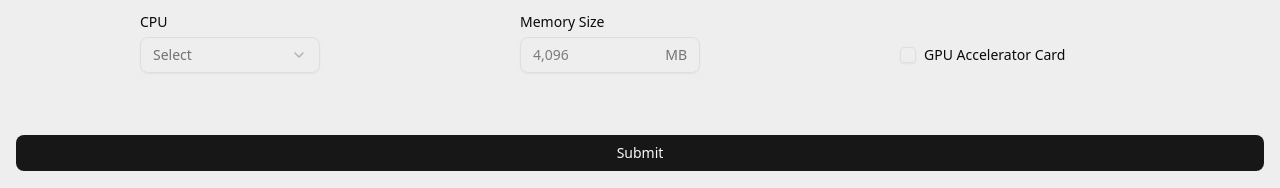
Server composer form › Invalid memory size: bigger than 8388608
The image size is (1280, 188).
Type "16,777,216" into the field labelled "Memory Size" at (595, 55), box [533,45,657,65]
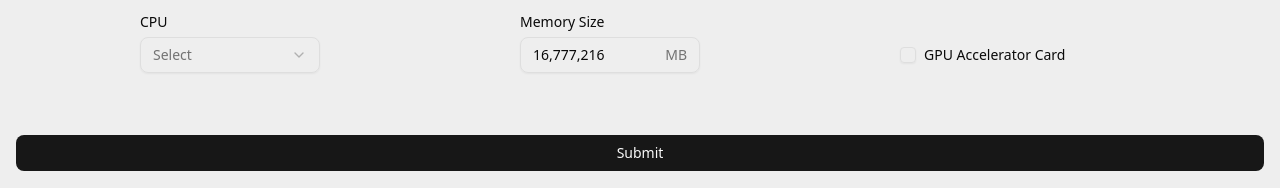
Click the button "Submit" at (640, 153), box [16,135,1264,171]
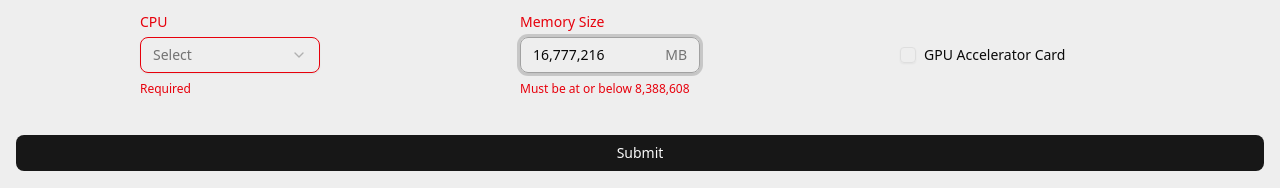
Result: the text "Must be at or below 8,388,608" is shown at [520,80,690,97]
